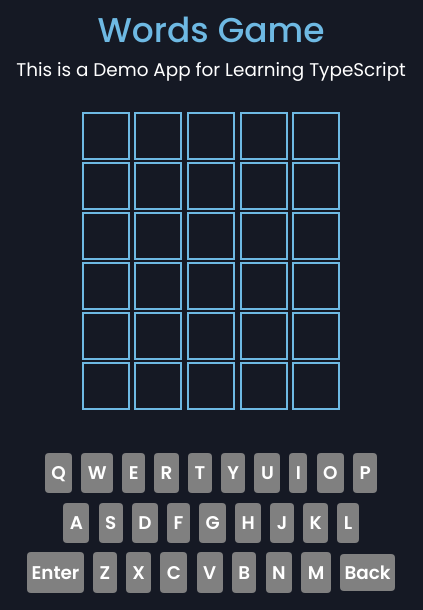
it: Test Input from Keyboard › Should display a word after fill a row
Click the text with test id "letter-T".
click(200, 473)  # box [188,453,212,494]
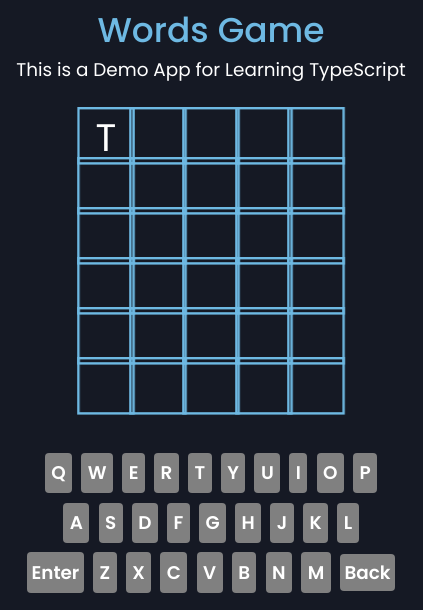
Click the text with test id "letter-E".
click(134, 473)  # box [122,453,145,494]
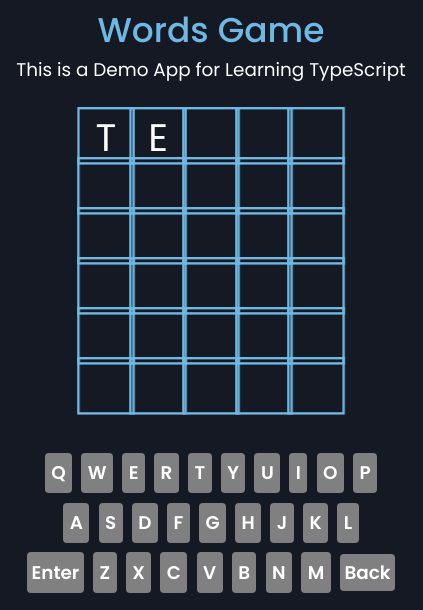
Click the text with test id "letter-A".
click(76, 523)  # box [63,503,89,543]
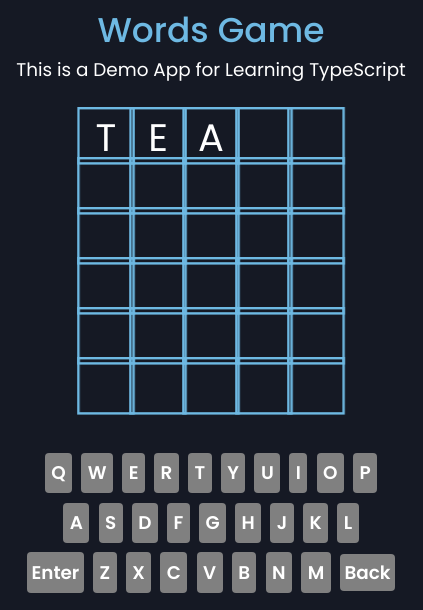
Click the text with test id "letter-C".
click(174, 573)  # box [160,552,187,593]
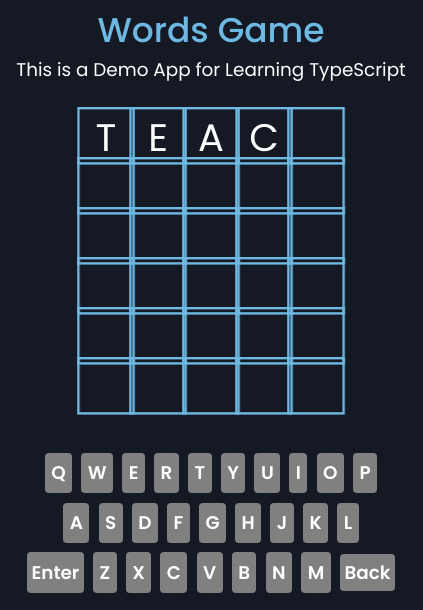
Click the text with test id "letter-H".
click(248, 523)  # box [235,503,261,543]
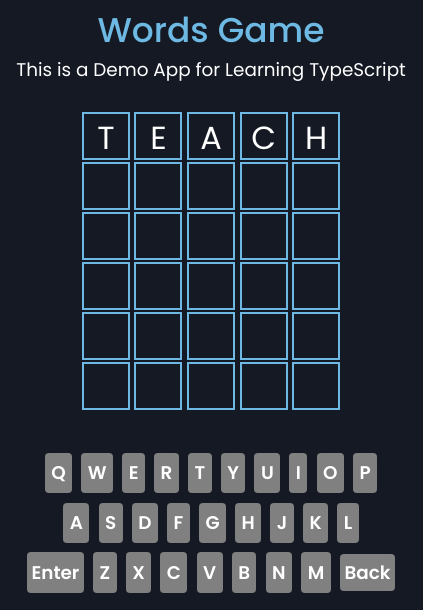
Result: the element showing "T E A C H" is shown at [61,112,361,412]
